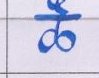ai_matra: (47, 0, 70, 14)
